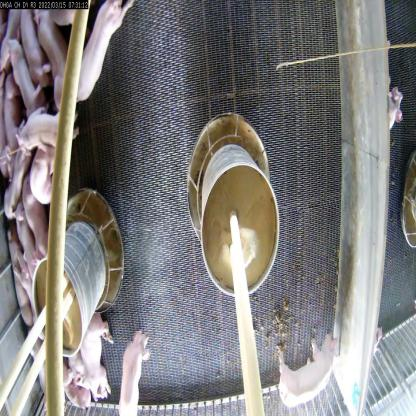Pig: (68, 0, 139, 97), (13, 93, 86, 152), (115, 324, 149, 415), (80, 310, 112, 405), (17, 176, 48, 268), (33, 142, 63, 207)
